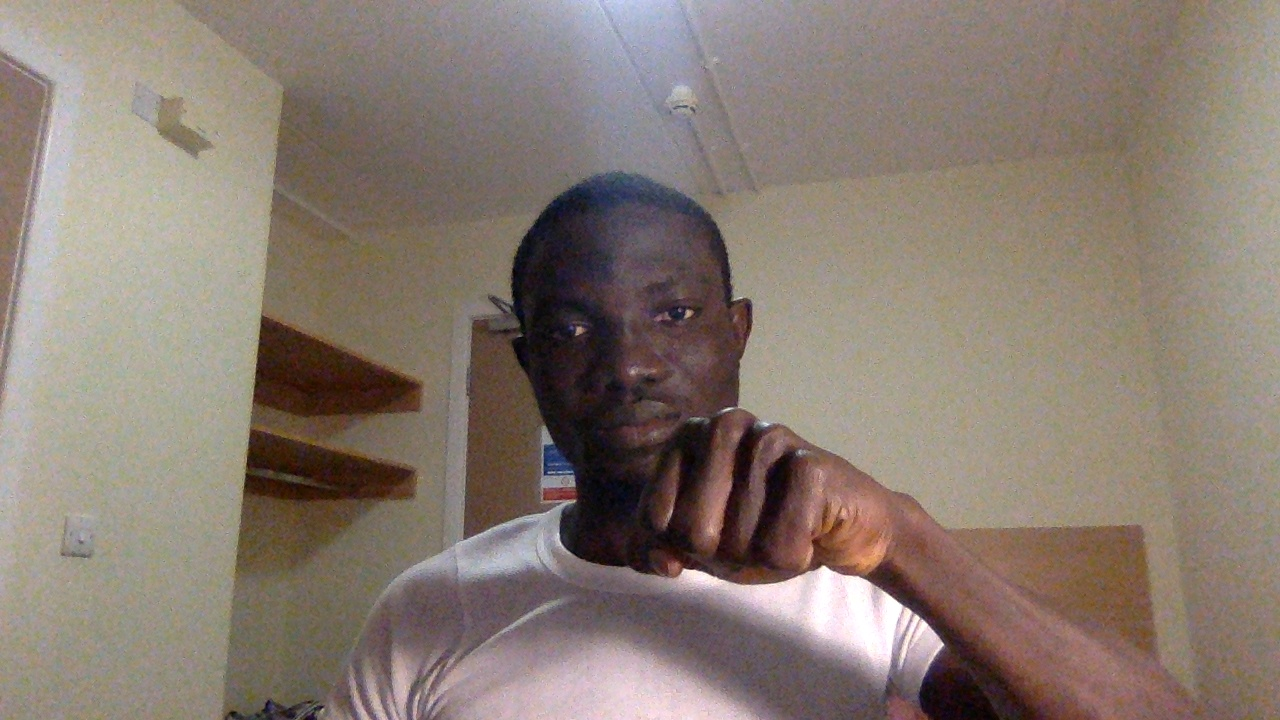Yes: (624, 401, 925, 615)
